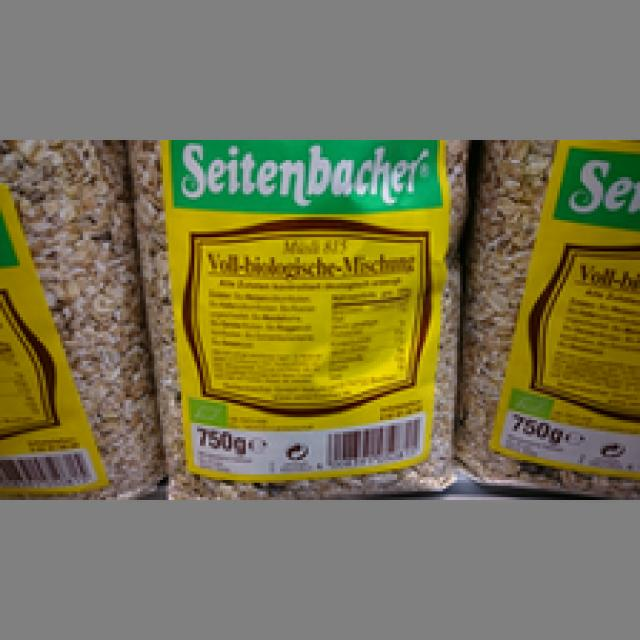groceries: (126, 134, 463, 497), (466, 134, 637, 489), (0, 140, 160, 494)
